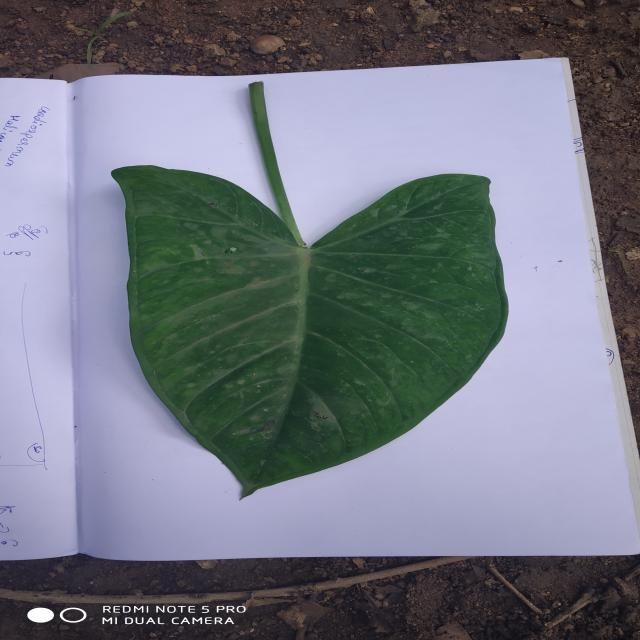taro: (113, 82, 507, 496)
